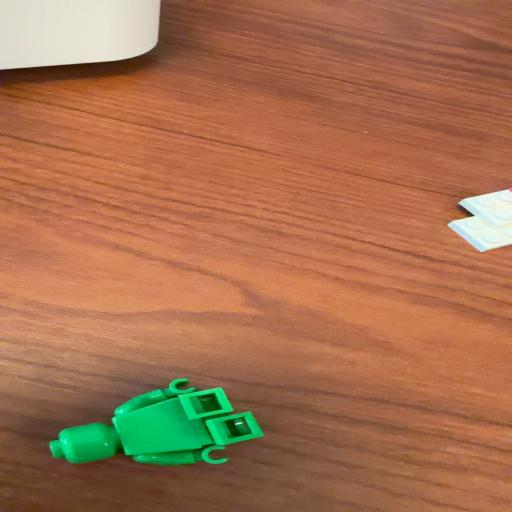UnoQ-minifig-detector: (48, 378, 264, 466)
